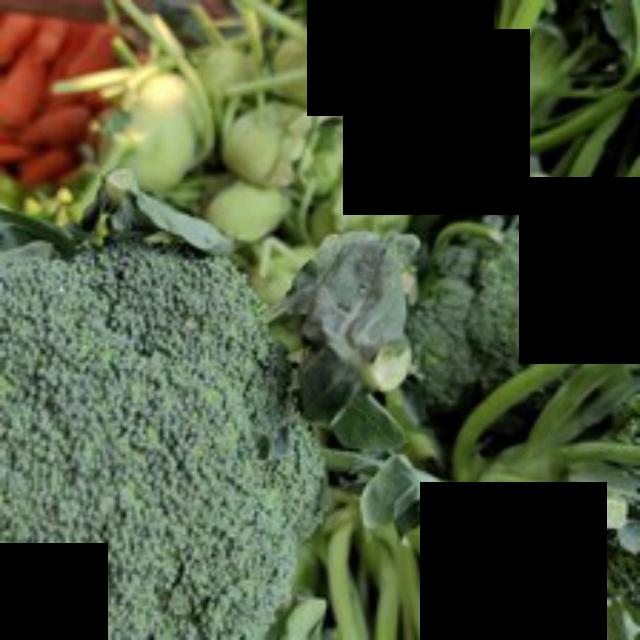broccoli: (0, 231, 342, 637)
